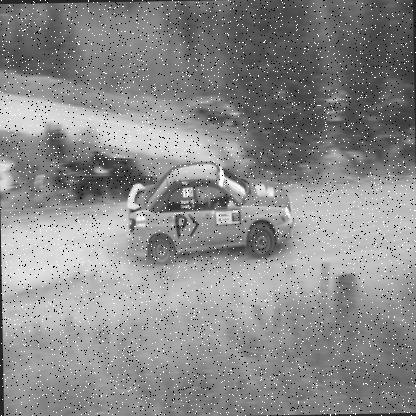Car: (124, 160, 293, 266), (196, 100, 243, 129), (0, 157, 23, 203), (322, 98, 351, 122), (250, 106, 284, 124)
